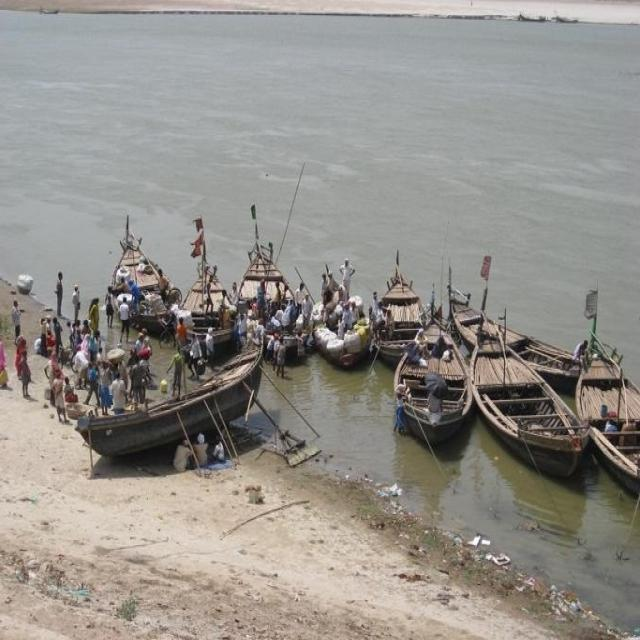boat: (98, 223, 176, 336), (242, 248, 314, 354), (178, 253, 240, 368), (366, 272, 428, 365), (312, 286, 366, 364), (514, 3, 550, 35), (542, 9, 578, 31)
